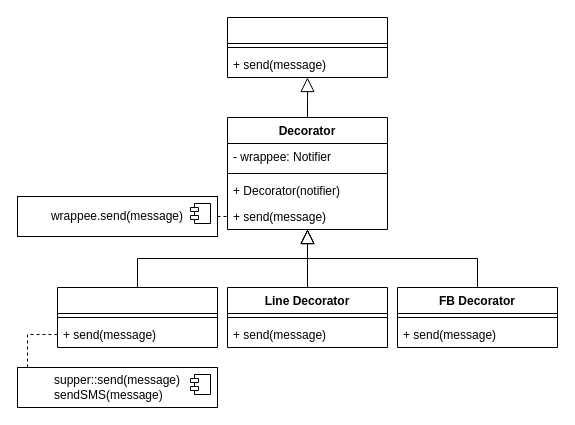
Some shapes in this 575 by 425 pixel diagram are drawn without their labels. Each missing label, with the box of its shape:
Notifier: (226, 16, 388, 78)
SMS Decorator: (56, 286, 218, 348)
